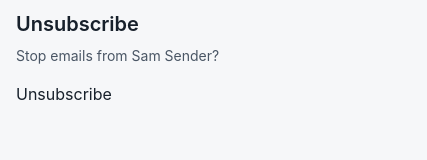
Scenario: unsubscribe page › changes nothing until the button is pressed, so link scanners cannot opt anyone out
Expected: the text "Stop emails from Sam Sender?" is shown, [16,47,219,64]
Click the button "Unsubscribe". click: (64, 94)
box: [16,82,112,106]
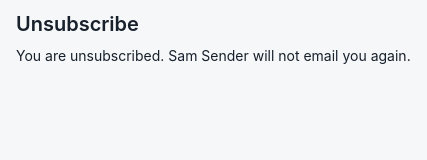
Result: the message shows "You are unsubscribed" at [16,47,411,64]
